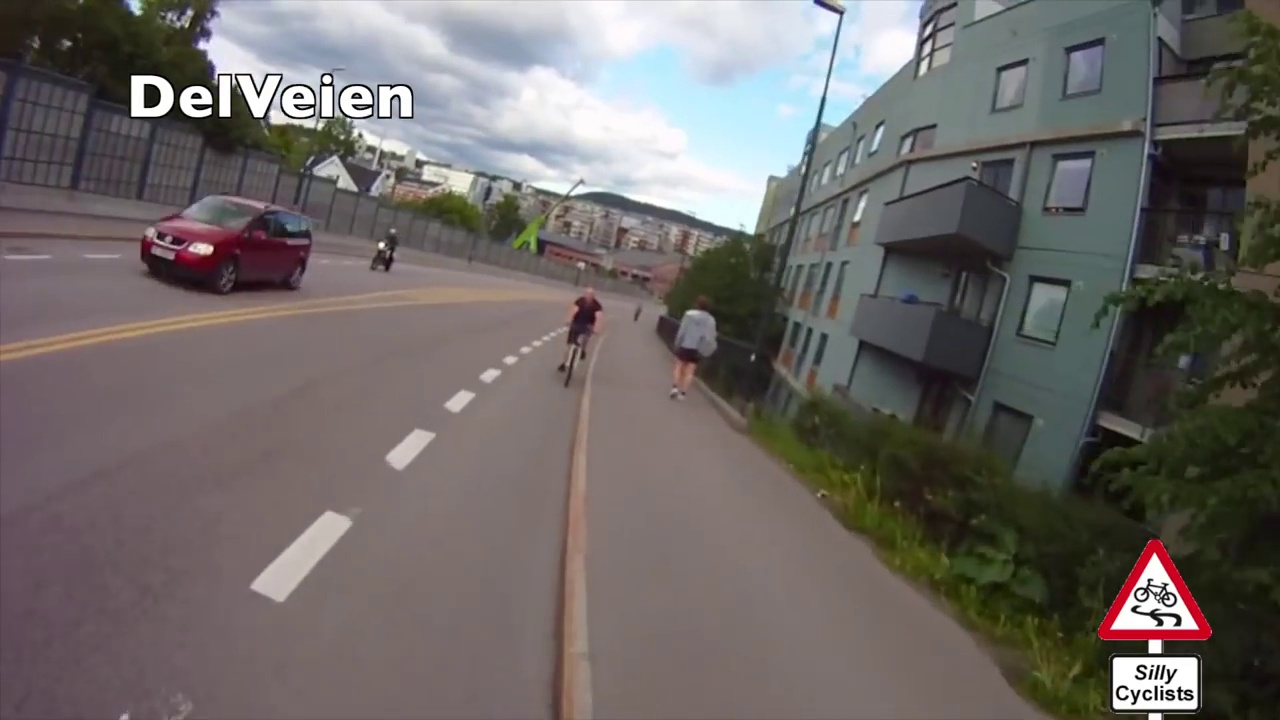cyclist_front: (552, 277, 603, 399)
